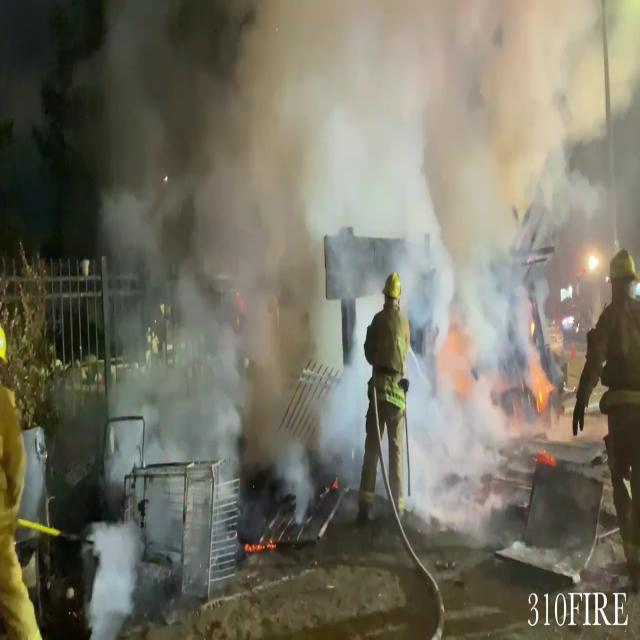Smoke: (81, 0, 620, 532)
